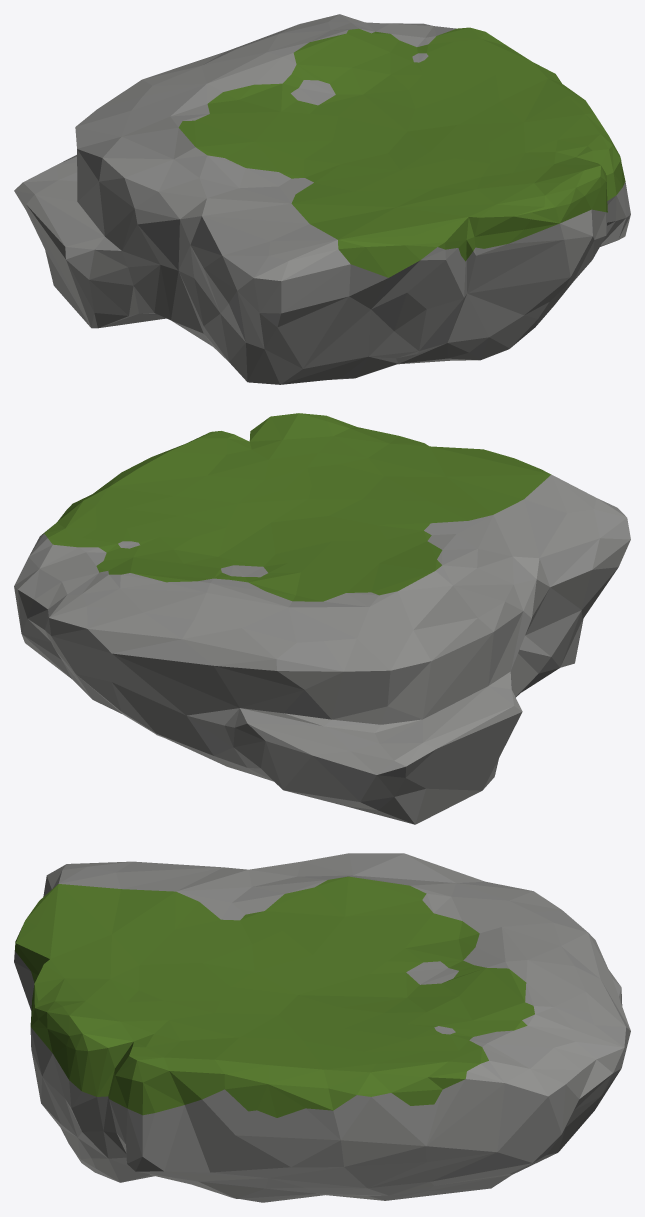
File: Cavern_FloorGrass_Border_Corner-02.fbx
The picture shows the model from 3 angles, top to bottom: view 1: azimuth 30°, elevation 25°; view 2: azimuth 150°, elevation 25°; view 3: azimuth 270°, elevation 25°; orthographic projection. The views are drawn at different scales.
Parts seen in each view (by area): view 1: Cavern_FloorGrass_Border_Corner-02; view 2: Cavern_FloorGrass_Border_Corner-02; view 3: Cavern_FloorGrass_Border_Corner-02.
Part boxes in pixels (x1,y1,x2,y2): Cavern_FloorGrass_Border_Corner-02: (14,14,630,384); Cavern_FloorGrass_Border_Corner-02: (14,413,630,824); Cavern_FloorGrass_Border_Corner-02: (14,853,630,1202).
Bounding box in the file's own units: 1705 × 637 × 1704.
Materials: 1 (1 with a texture image).
